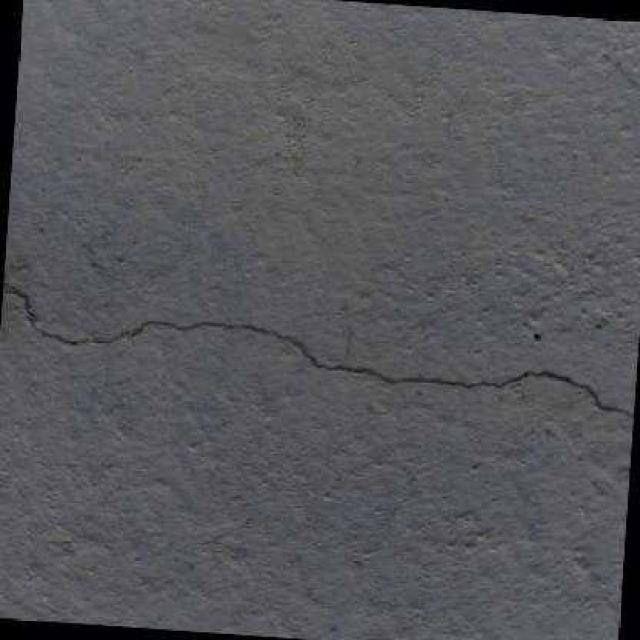D00: (2, 282, 634, 419)
